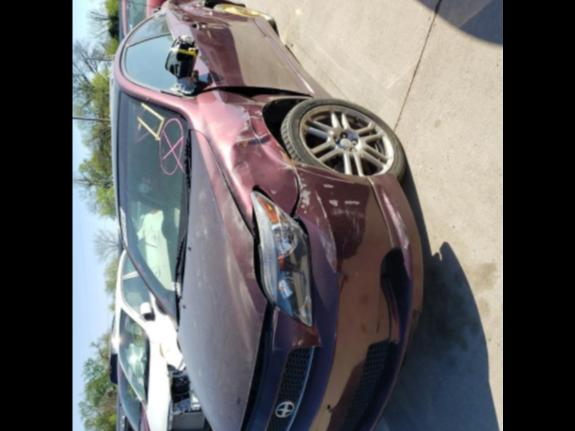Broken part: (223, 177, 277, 431), (249, 158, 311, 251), (163, 34, 199, 95), (196, 83, 311, 100)
Dent: (168, 0, 247, 22), (212, 91, 266, 117), (229, 144, 256, 190), (182, 21, 229, 32), (180, 91, 216, 104), (234, 133, 270, 145), (238, 117, 257, 136)
Flaking: (220, 174, 258, 287), (202, 119, 234, 192), (228, 125, 237, 135)
Scratch: (380, 188, 408, 248), (315, 216, 338, 275), (260, 143, 293, 170), (298, 167, 355, 182), (246, 111, 271, 143), (267, 93, 310, 102), (314, 190, 328, 217), (291, 164, 306, 189), (234, 95, 267, 106), (331, 208, 364, 218), (326, 222, 337, 252), (301, 189, 310, 208), (204, 16, 232, 21), (235, 136, 255, 143), (352, 221, 360, 237), (240, 116, 247, 132), (294, 175, 298, 195), (210, 26, 224, 31), (328, 199, 337, 206), (344, 200, 359, 204), (207, 29, 212, 40), (209, 23, 226, 26), (193, 21, 199, 29), (189, 0, 204, 3), (238, 106, 247, 111), (243, 160, 248, 169), (324, 183, 333, 188), (255, 109, 262, 115), (202, 7, 214, 10), (270, 190, 276, 195), (201, 23, 206, 28), (202, 12, 209, 15), (209, 11, 212, 15), (303, 210, 307, 213)
